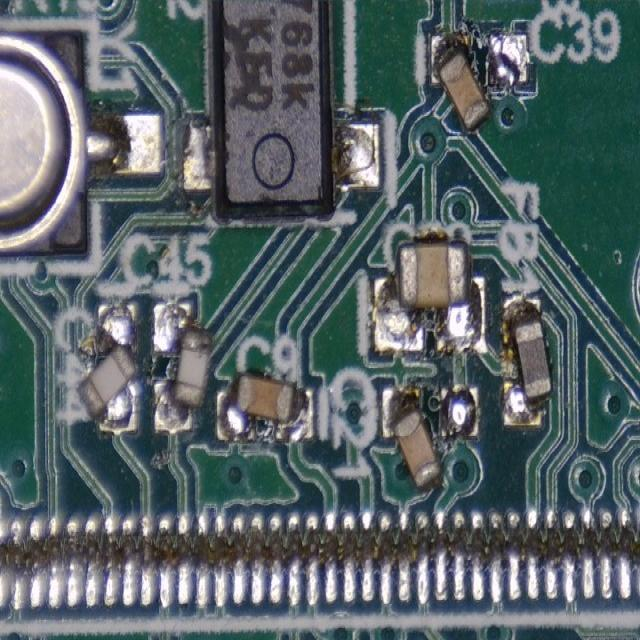Incorrect_installation: (373, 240, 489, 354), (382, 385, 480, 490), (430, 32, 530, 132), (73, 301, 142, 435), (152, 300, 215, 436), (501, 298, 554, 429), (216, 374, 314, 443)
